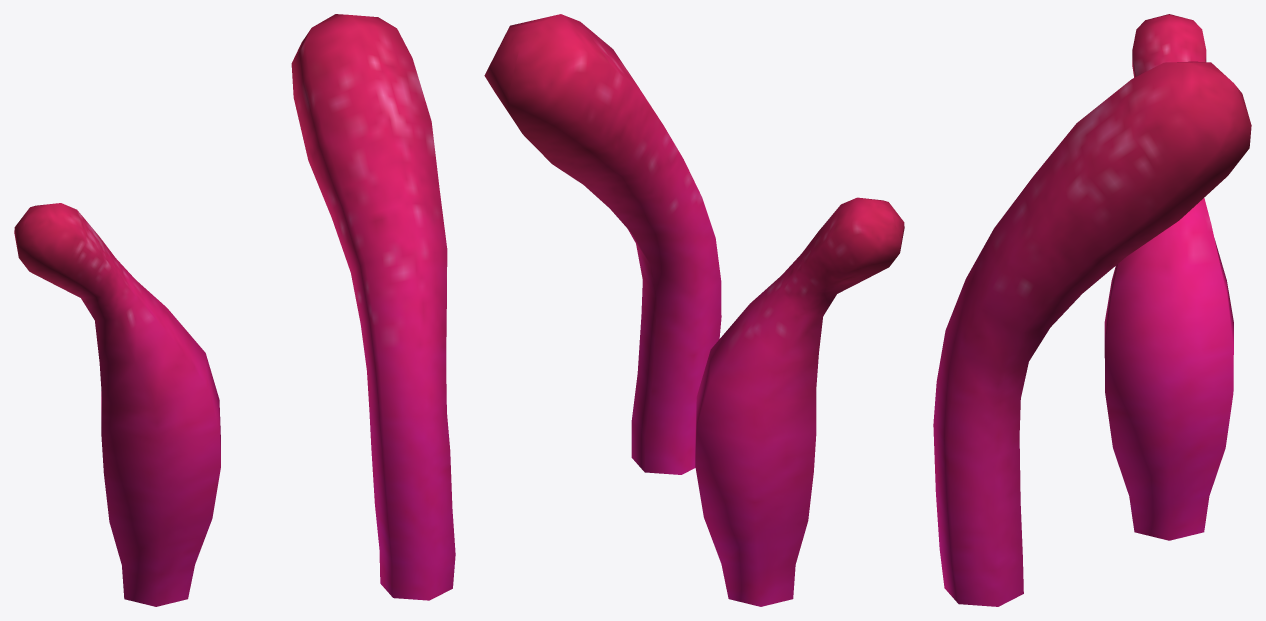
File: Cartoon Seaweed_13-1-41.fbx
3 views of the same model, side by side, from view 1: azimuth 30°, elevation 25°; view 2: azimuth 150°, elevation 25°; view 3: azimuth 270°, elevation 25° (orthographic). The views are drawn at different scales.
Visible parts, largest first — view 1: Cartoon Seaweed_13.1.41; view 2: Cartoon Seaweed_13.1.41; view 3: Cartoon Seaweed_13.1.41.
Part boxes in pixels (left/top/right/bottom): Cartoon Seaweed_13.1.41: left=14, top=14, right=455, bottom=606; Cartoon Seaweed_13.1.41: left=484, top=14, right=904, bottom=606; Cartoon Seaweed_13.1.41: left=933, top=14, right=1251, bottom=606.
Size of the model in its own units: 7.77 by 9.9 by 5.02.
1 material, 1 textured.
